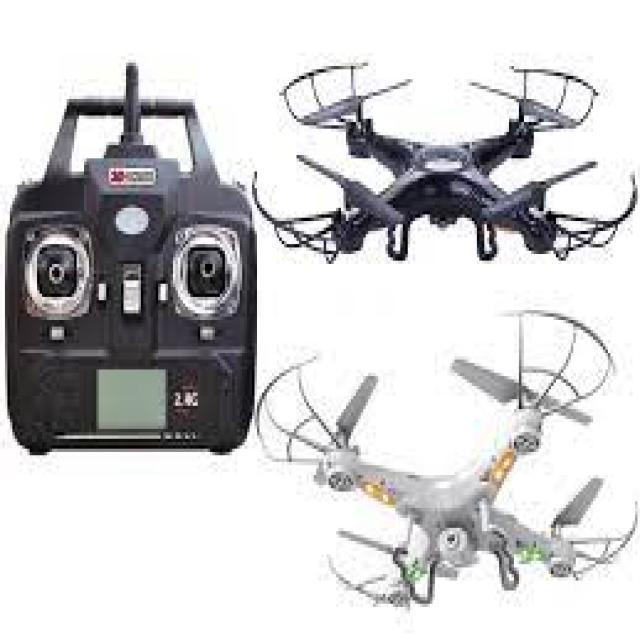drone: (254, 297, 640, 640), (239, 39, 640, 287)
